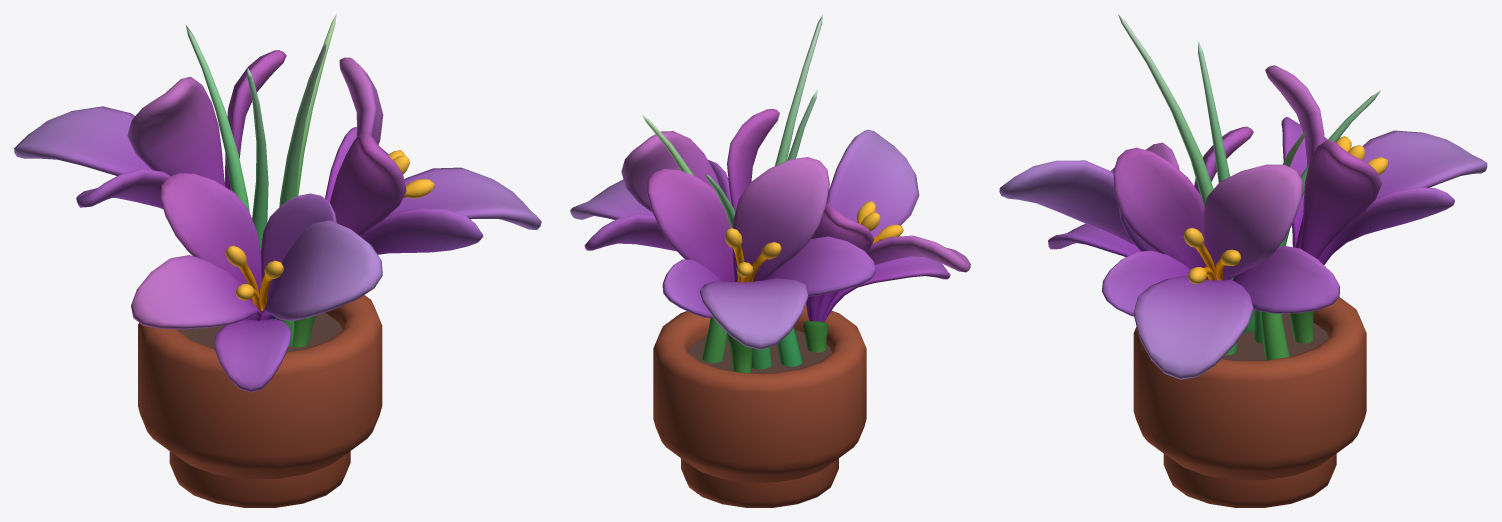
File: Plants_09.glb
The picture shows the model from 3 angles, left to right: view 1: azimuth 30°, elevation 25°; view 2: azimuth 150°, elevation 25°; view 3: azimuth 270°, elevation 25°; orthographic projection. The views are drawn at different scales.
Parts seen in each view (by area): view 1: Plants_09; view 2: Plants_09; view 3: Plants_09.
Boxes of the visible parts, x1,y1,x2,y2 form: Plants_09: (14,14,541,507); Plants_09: (570,14,970,507); Plants_09: (999,14,1487,507).
Size of the model in its own units: 0.3254 by 0.3548 by 0.3397.
1 material, 1 textured.
